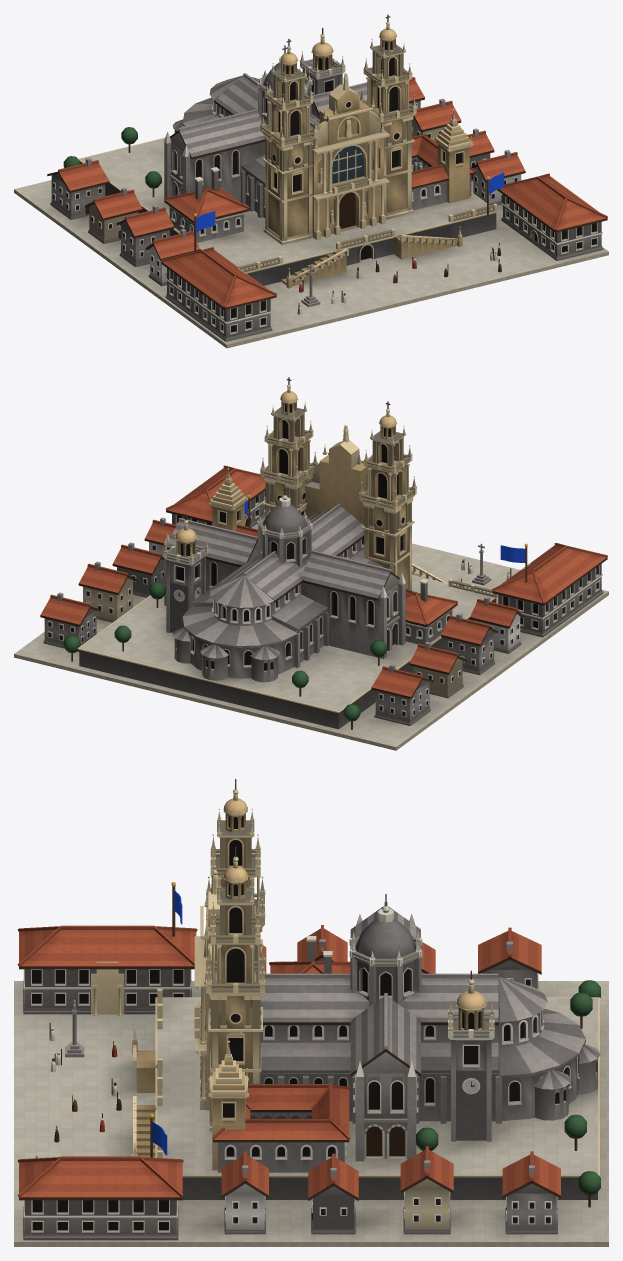
The model's file is lm_santiago.glb.
The picture shows the model from 3 angles, top to bottom: view 1: azimuth 30°, elevation 25°; view 2: azimuth 150°, elevation 25°; view 3: azimuth 270°, elevation 25°; orthographic projection. The views are drawn at different scales.
Parts seen in each view (by area): view 1: lm_santiago; view 2: lm_santiago; view 3: lm_santiago.
Part boxes in pixels (x1,y1,x2,y2): lm_santiago: (14,14,608,348); lm_santiago: (14,377,608,750); lm_santiago: (14,779,608,1246).
Bounding box in the file's own units: 2.25 × 1.22 × 2.16.
1 material, 1 textured.
